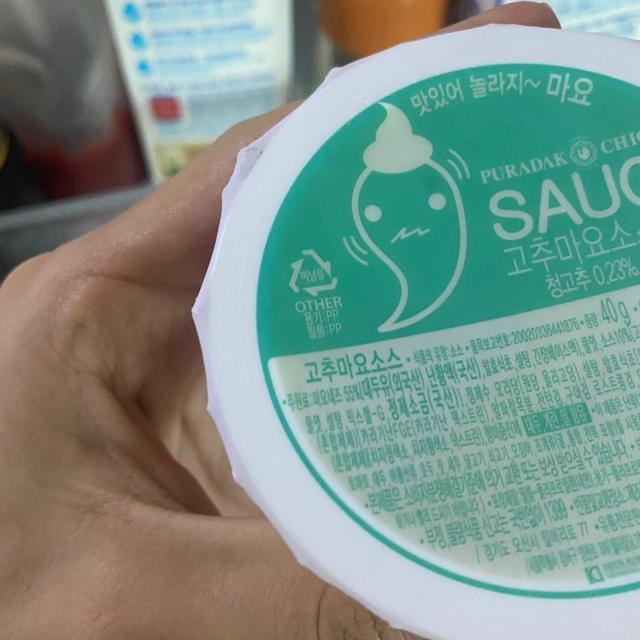Vinyl: (286, 245, 340, 298)
